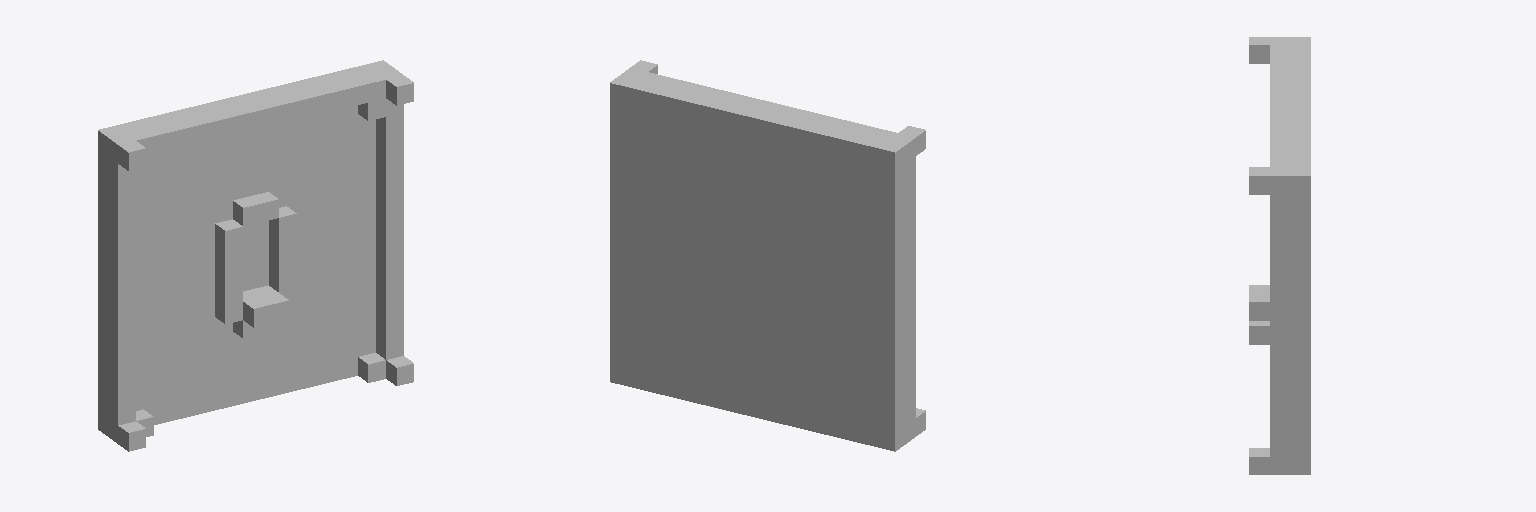
The model's file is Static Objects-6.obj.
3 views of the same model, side by side, from view 1: azimuth 30°, elevation 25°; view 2: azimuth 150°, elevation 25°; view 3: azimuth 270°, elevation 25° (orthographic).
Parts seen in each view (by area): view 1: object 1; view 2: object 1; view 3: object 1.
Boxes of the visible parts, box(x1,y1,x2,y2) form: object 1: box(98, 60, 413, 451); object 1: box(610, 60, 925, 451); object 1: box(1249, 37, 1310, 474).
Bounding box in the file's own units: 1.6 × 1.6 × 0.3.